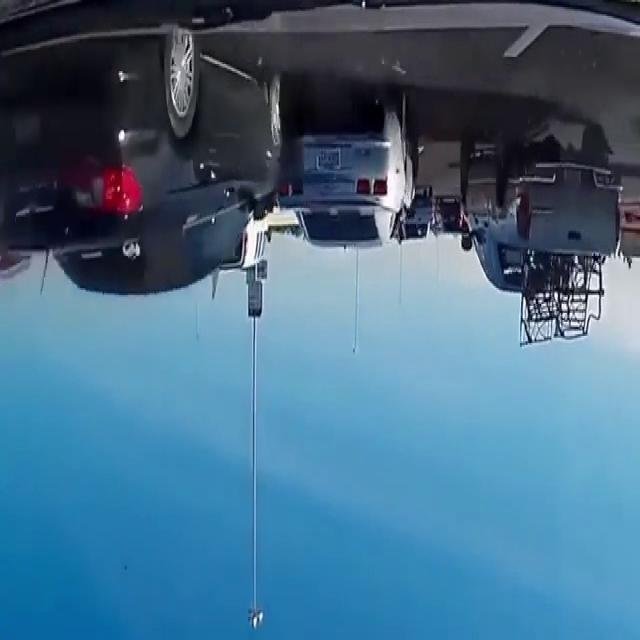moderate: (0, 26, 419, 312)
